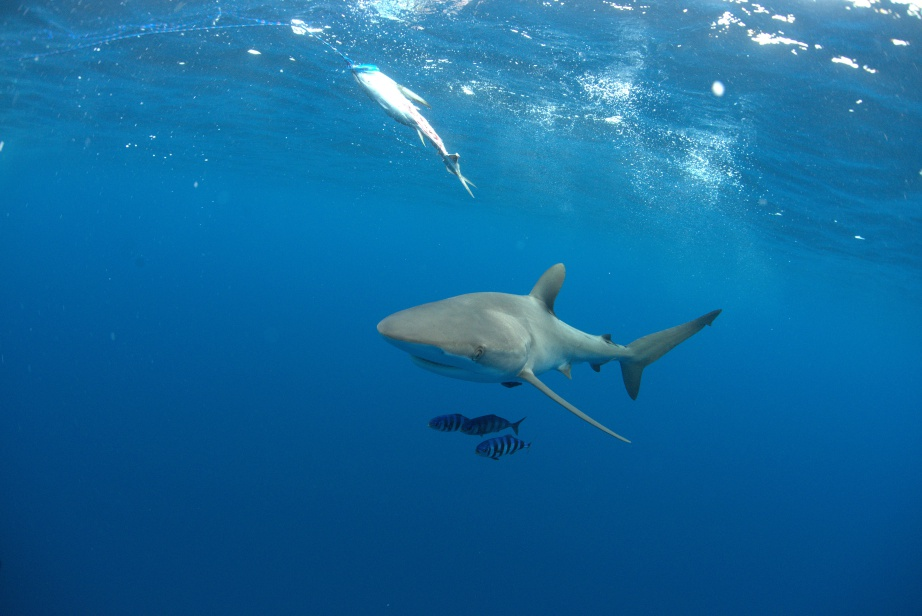Sedoso: (342, 254, 742, 452)
